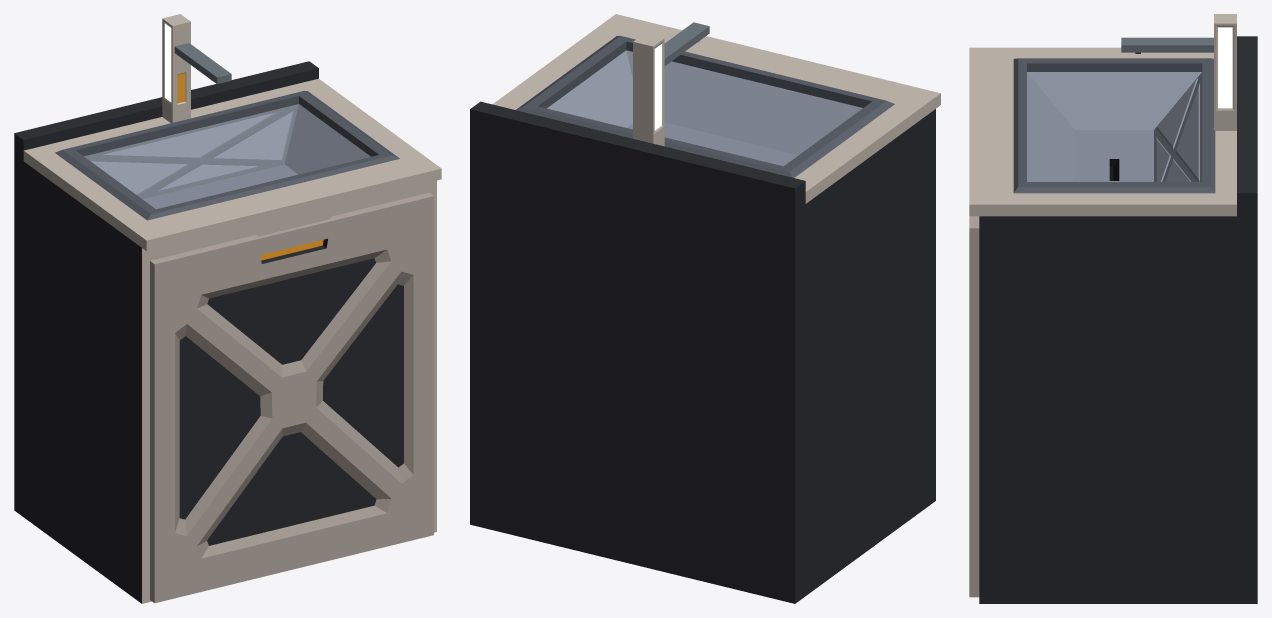
File: SM_Kitchen_Sink.glb
3 renders of one model, left to right at view 1: azimuth 30°, elevation 25°; view 2: azimuth 150°, elevation 25°; view 3: azimuth 270°, elevation 25°, orthographic. The views are drawn at different scales.
Visible parts, largest first — view 1: SM_Kitchen_Sink; view 2: SM_Kitchen_Sink; view 3: SM_Kitchen_Sink.
Part boxes in pixels (box(x1,y1,x2,y2)): SM_Kitchen_Sink: box(14, 14, 441, 603); SM_Kitchen_Sink: box(470, 14, 940, 603); SM_Kitchen_Sink: box(969, 14, 1257, 603).
Size of the model in its own units: 0.8 by 1.21 by 0.622.
2 materials, 1 textured.
